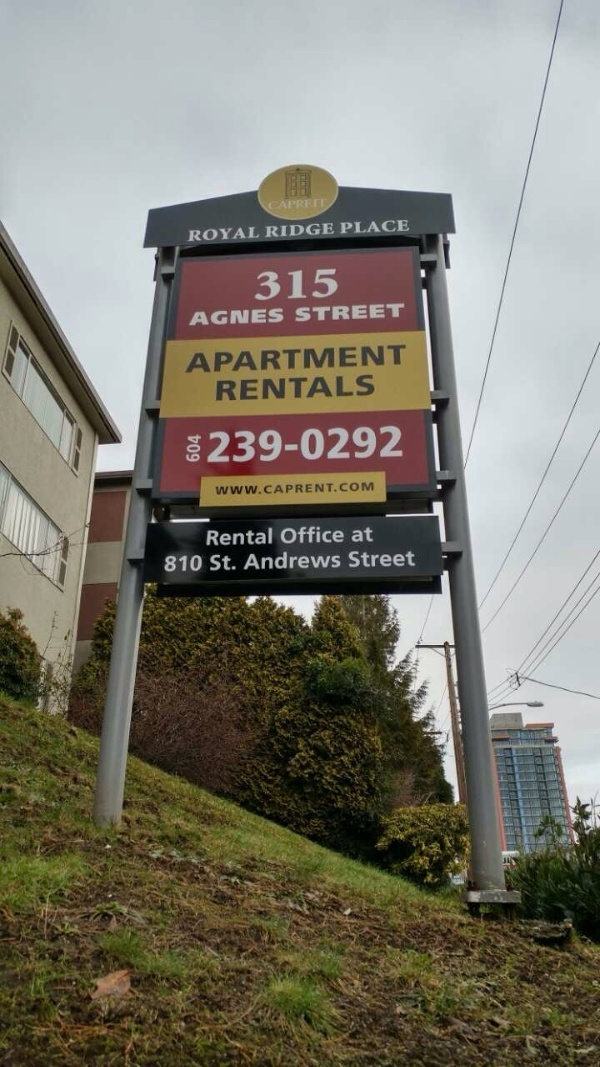text: (209, 426, 224, 462), (225, 426, 240, 462), (241, 426, 256, 462), (257, 426, 272, 462), (273, 426, 288, 462), (289, 426, 304, 462), (305, 426, 320, 462), (321, 426, 336, 462), (337, 426, 352, 462), (353, 426, 368, 462), (369, 426, 384, 462), (385, 426, 400, 462), (257, 267, 272, 302), (273, 267, 288, 302), (289, 267, 304, 302), (305, 267, 320, 302), (321, 267, 336, 302), (193, 344, 208, 374), (209, 344, 224, 374), (225, 344, 240, 374), (241, 344, 256, 374), (257, 344, 272, 374), (273, 344, 288, 374), (289, 344, 304, 374), (305, 344, 320, 374), (321, 344, 336, 374), (337, 344, 352, 374), (353, 344, 368, 374), (369, 344, 384, 374), (385, 344, 400, 374), (225, 373, 240, 402), (241, 373, 256, 402), (257, 373, 272, 402), (273, 373, 288, 402), (289, 373, 304, 402), (305, 373, 320, 402), (321, 373, 336, 402), (337, 373, 352, 402), (353, 373, 368, 402), (401, 548, 417, 569), (353, 548, 368, 569), (369, 548, 384, 569), (385, 548, 400, 569), (209, 527, 224, 547), (225, 527, 240, 547), (241, 527, 256, 547), (257, 527, 272, 547), (257, 552, 272, 572), (273, 552, 288, 572), (289, 552, 304, 572), (305, 552, 320, 572), (321, 552, 336, 572), (193, 307, 208, 326), (209, 307, 224, 326), (225, 307, 240, 326), (241, 307, 256, 326), (257, 307, 272, 326), (289, 526, 304, 545), (305, 526, 320, 545), (321, 526, 336, 545), (209, 553, 224, 572), (177, 554, 192, 573), (305, 303, 320, 321), (321, 303, 336, 321), (337, 303, 352, 321), (353, 303, 368, 321), (369, 303, 384, 321), (385, 303, 400, 321), (353, 527, 368, 545), (193, 434, 202, 463), (273, 307, 286, 326), (193, 226, 208, 242), (209, 226, 224, 242), (225, 226, 240, 242), (241, 226, 256, 242), (273, 222, 288, 238), (289, 222, 304, 238), (305, 222, 320, 238), (353, 219, 368, 235), (369, 219, 384, 235), (385, 219, 400, 235), (216, 373, 224, 402), (225, 553, 237, 572), (164, 554, 176, 573), (225, 481, 240, 496), (241, 481, 256, 496), (257, 481, 272, 496), (273, 481, 288, 496), (289, 481, 304, 496), (305, 481, 320, 496), (321, 481, 336, 496), (337, 481, 352, 496), (353, 481, 368, 496), (321, 222, 335, 238), (401, 344, 408, 374), (193, 554, 204, 573), (246, 552, 256, 572), (273, 198, 288, 211), (289, 198, 304, 211), (305, 198, 320, 211), (186, 344, 192, 374), (341, 219, 352, 235), (369, 373, 375, 402), (186, 434, 192, 463), (295, 303, 304, 321), (401, 219, 411, 235), (280, 526, 288, 545), (337, 526, 345, 545), (215, 481, 224, 496), (264, 222, 272, 238), (369, 527, 376, 545), (346, 548, 352, 569), (337, 552, 343, 572), (337, 267, 340, 302), (369, 481, 376, 496), (321, 198, 328, 211), (401, 303, 406, 321), (401, 426, 403, 462), (188, 226, 192, 242), (257, 226, 261, 242), (268, 198, 272, 211), (206, 527, 208, 547), (255, 267, 256, 302), (273, 527, 274, 547), (191, 307, 192, 326), (351, 527, 352, 545)
